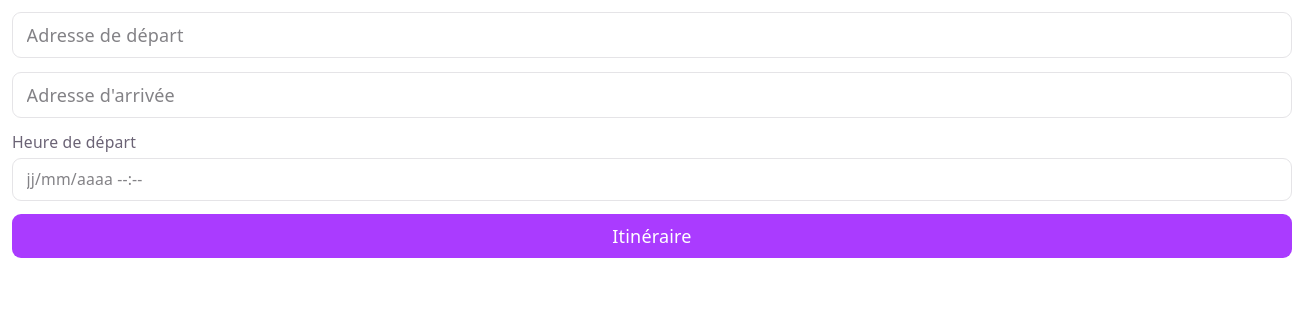
AddressForm › clears a field's validation message as soon as it is filled in
Click the button "Itinéraire" at (652, 236), box [12,214,1292,258]
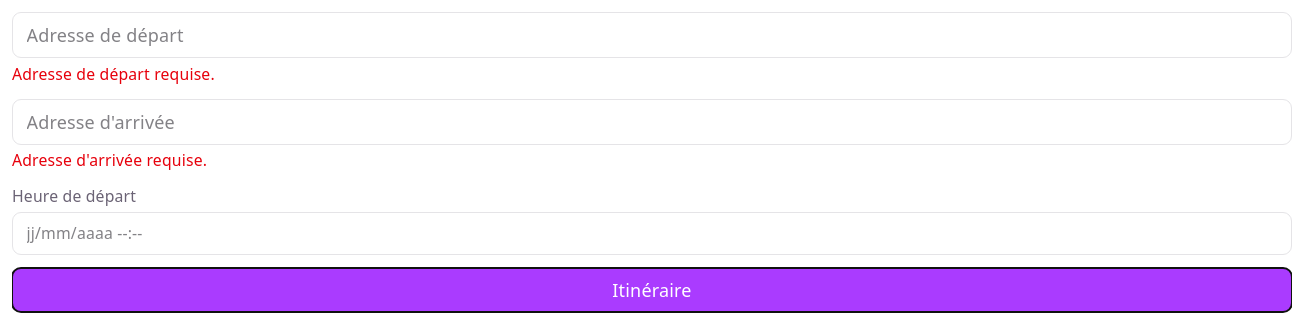
Expected: the text "Adresse de départ requise." is shown, [12,63,215,85]
Type "1 rue de Paris" into the field with placeholder "Adresse de départ" at (652, 35), box [12,12,1292,58]
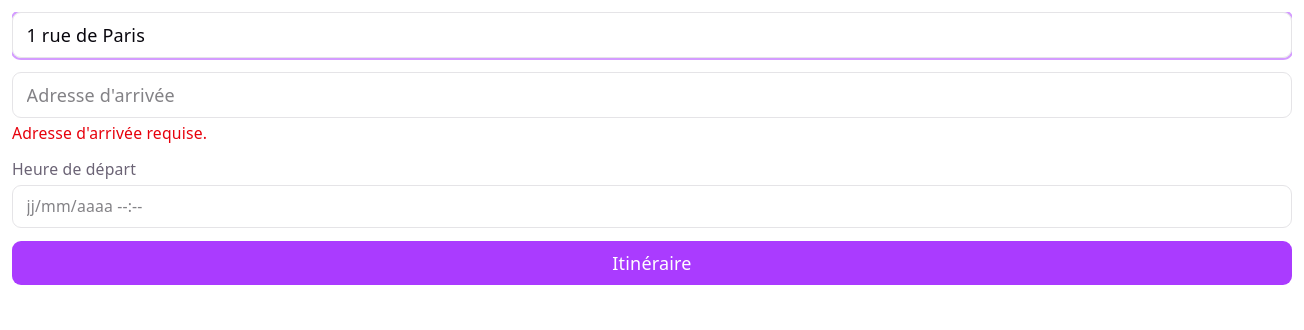
Expected: the text "Adresse d'arrivée requise." is shown, [12,122,207,144]
Expected: the text "Adresse de départ requise." is gone
